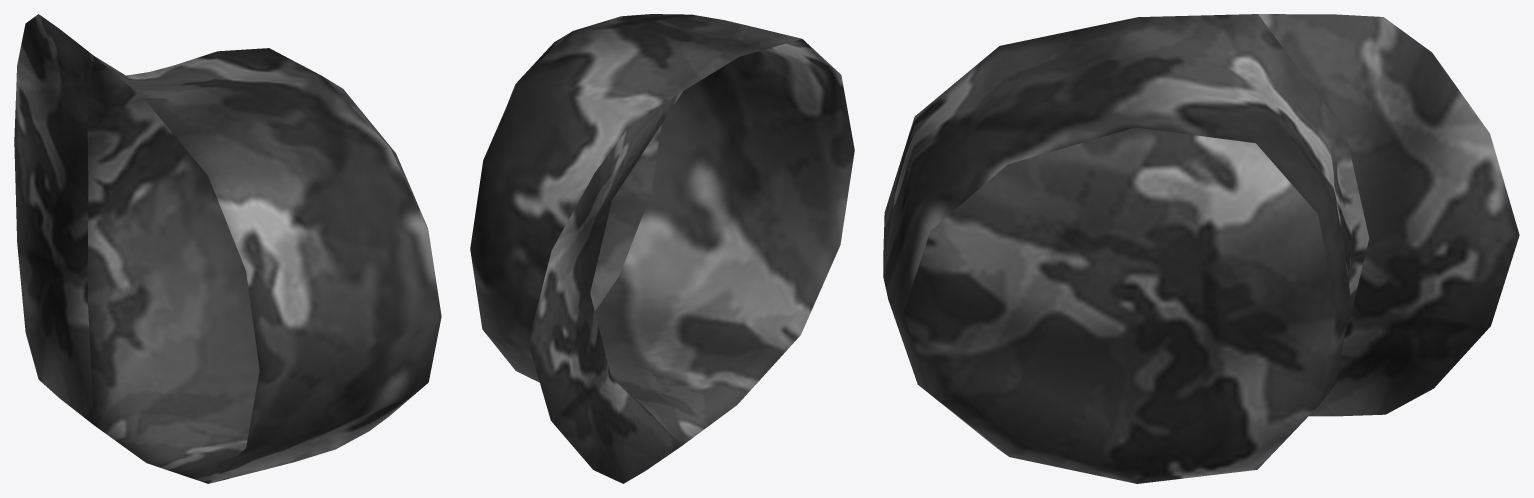
The model's file is ArmyHatReversed_F.fbx.
The picture shows the model from 3 angles, left to right: view 1: azimuth 30°, elevation 25°; view 2: azimuth 150°, elevation 25°; view 3: azimuth 270°, elevation 25°; orthographic projection. The views are drawn at different scales.
Parts seen in each view (by area): view 1: Circle; view 2: Circle; view 3: Circle.
Part boxes in pixels (x1,y1,x2,y2): Circle: (14,14,441,483); Circle: (470,14,854,483); Circle: (883,14,1519,483).
Size of the model in its own units: 0.0865 by 0.1472 by 0.2113.
